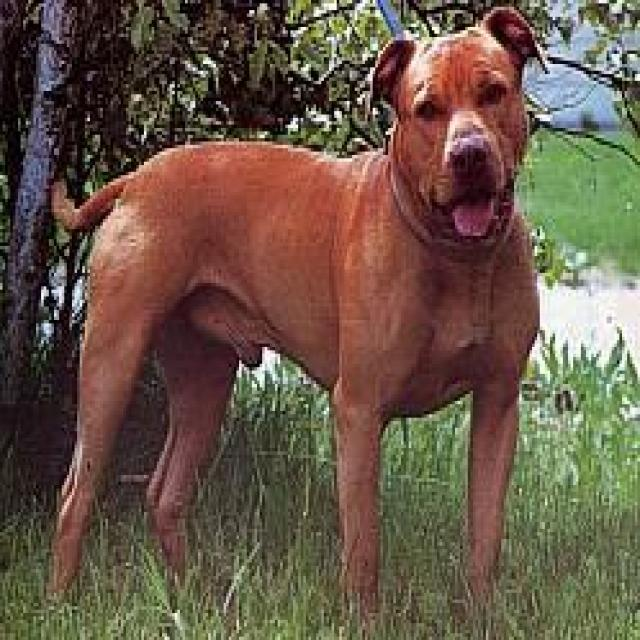staffordshire_bullterrier: (49, 6, 540, 626)
